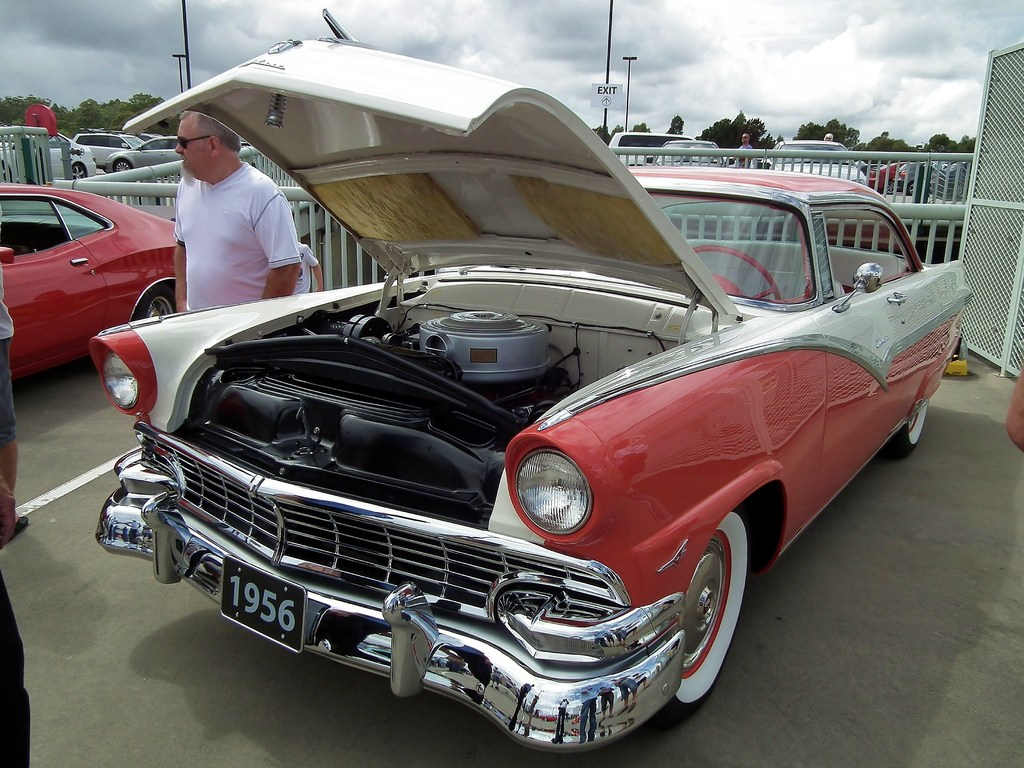Car: (83, 10, 1000, 767), (0, 173, 195, 344), (756, 133, 881, 202), (869, 154, 980, 196), (51, 117, 138, 165), (640, 142, 744, 180), (607, 127, 699, 161), (107, 139, 189, 174)
